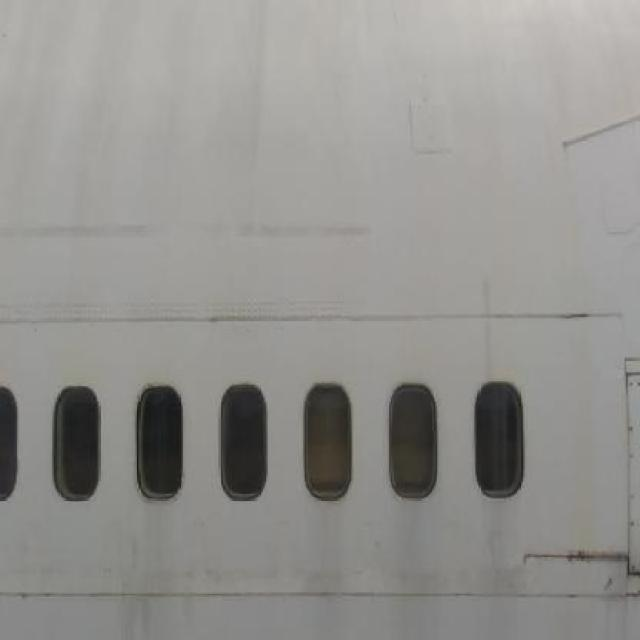Rust: (542, 533, 636, 582)
Scartch: (3, 193, 392, 251), (541, 113, 640, 150)
